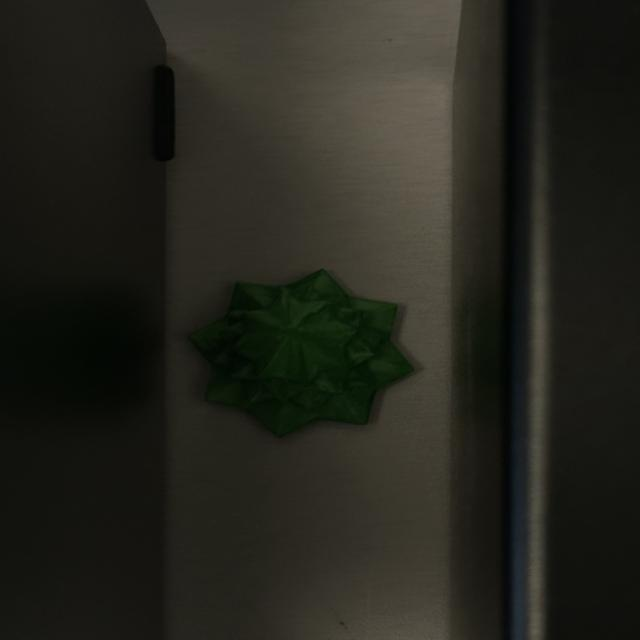tree: (185, 266, 418, 438)
